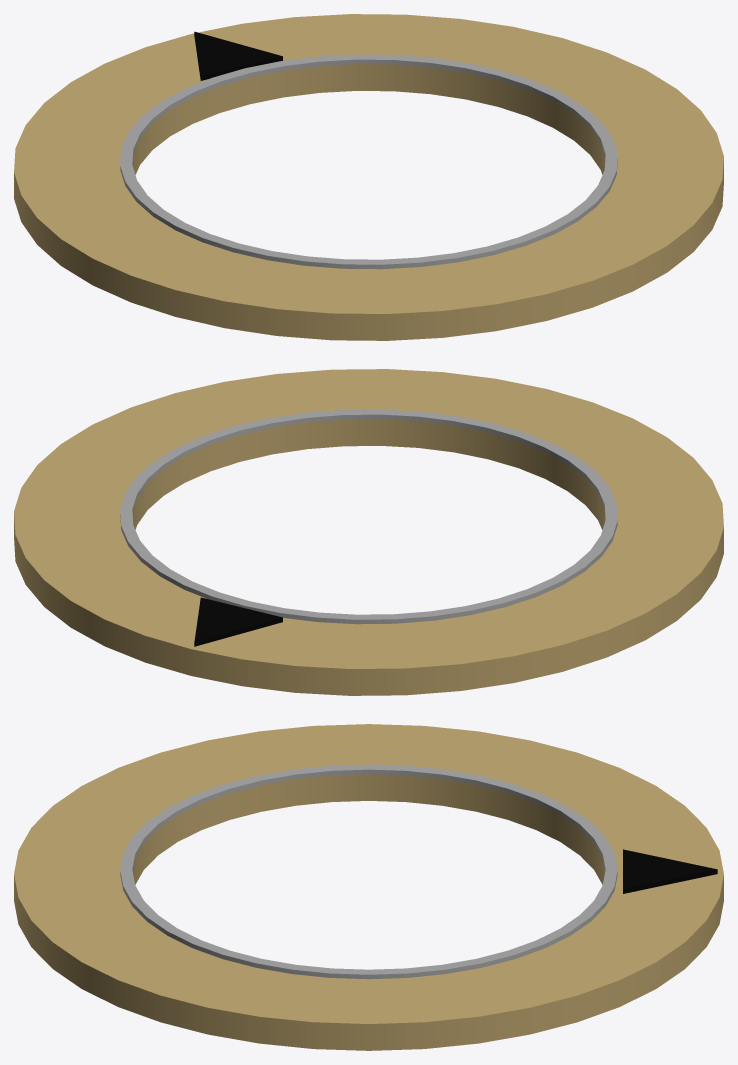
The model's file is Ring3.fbx.
The picture shows the model from 3 angles, top to bottom: view 1: azimuth 30°, elevation 25°; view 2: azimuth 150°, elevation 25°; view 3: azimuth 270°, elevation 25°; orthographic projection.
Visible parts, largest first — view 1: Ring3; view 2: Ring3; view 3: Ring3.
Boxes of the visible parts, x1,y1,x2,y2 form: Ring3: [14, 14, 723, 340]; Ring3: [14, 369, 723, 695]; Ring3: [14, 724, 723, 1050].
Bounding box in the file's own units: 60 × 2.94 × 60.
